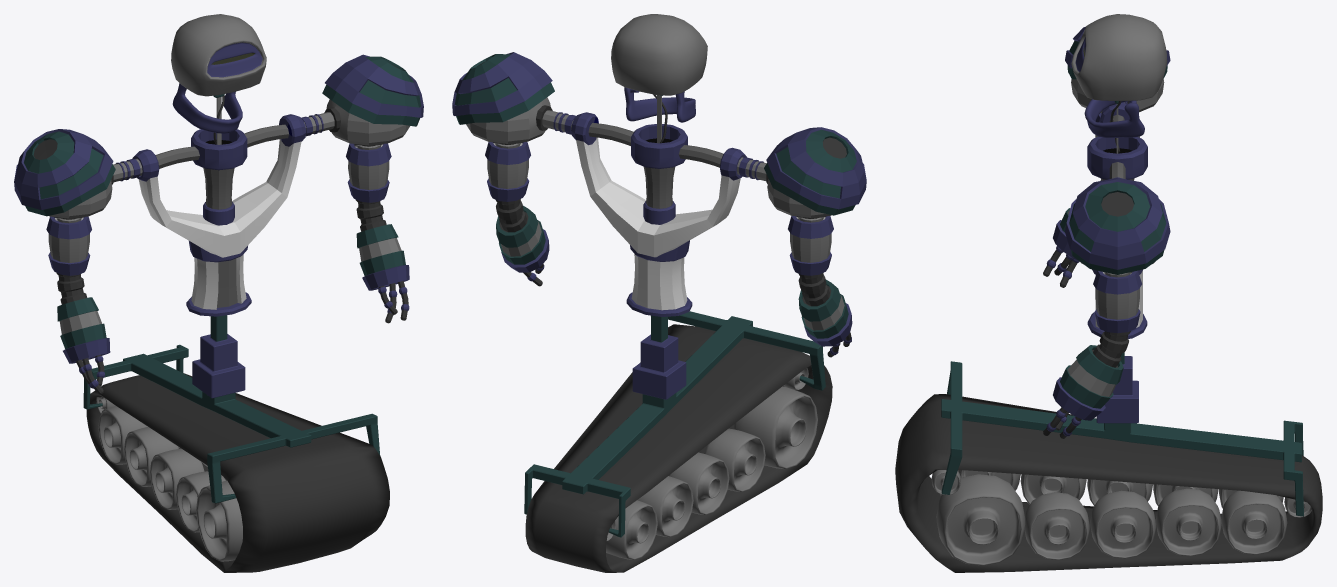
File: npcRobo2.fbx
3 views of the same model, side by side, from view 1: azimuth 30°, elevation 25°; view 2: azimuth 150°, elevation 25°; view 3: azimuth 270°, elevation 25° (orthographic). The views are drawn at different scales.
Visible parts, largest first — view 1: npcRobo2; view 2: npcRobo2; view 3: npcRobo2.
Part boxes in pixels (<box>): npcRobo2: <box>14,14,423,572</box>; npcRobo2: <box>452,14,866,572</box>; npcRobo2: <box>895,14,1322,572</box>.
Size of the model in its own units: 65.71 by 77.01 by 57.03.
